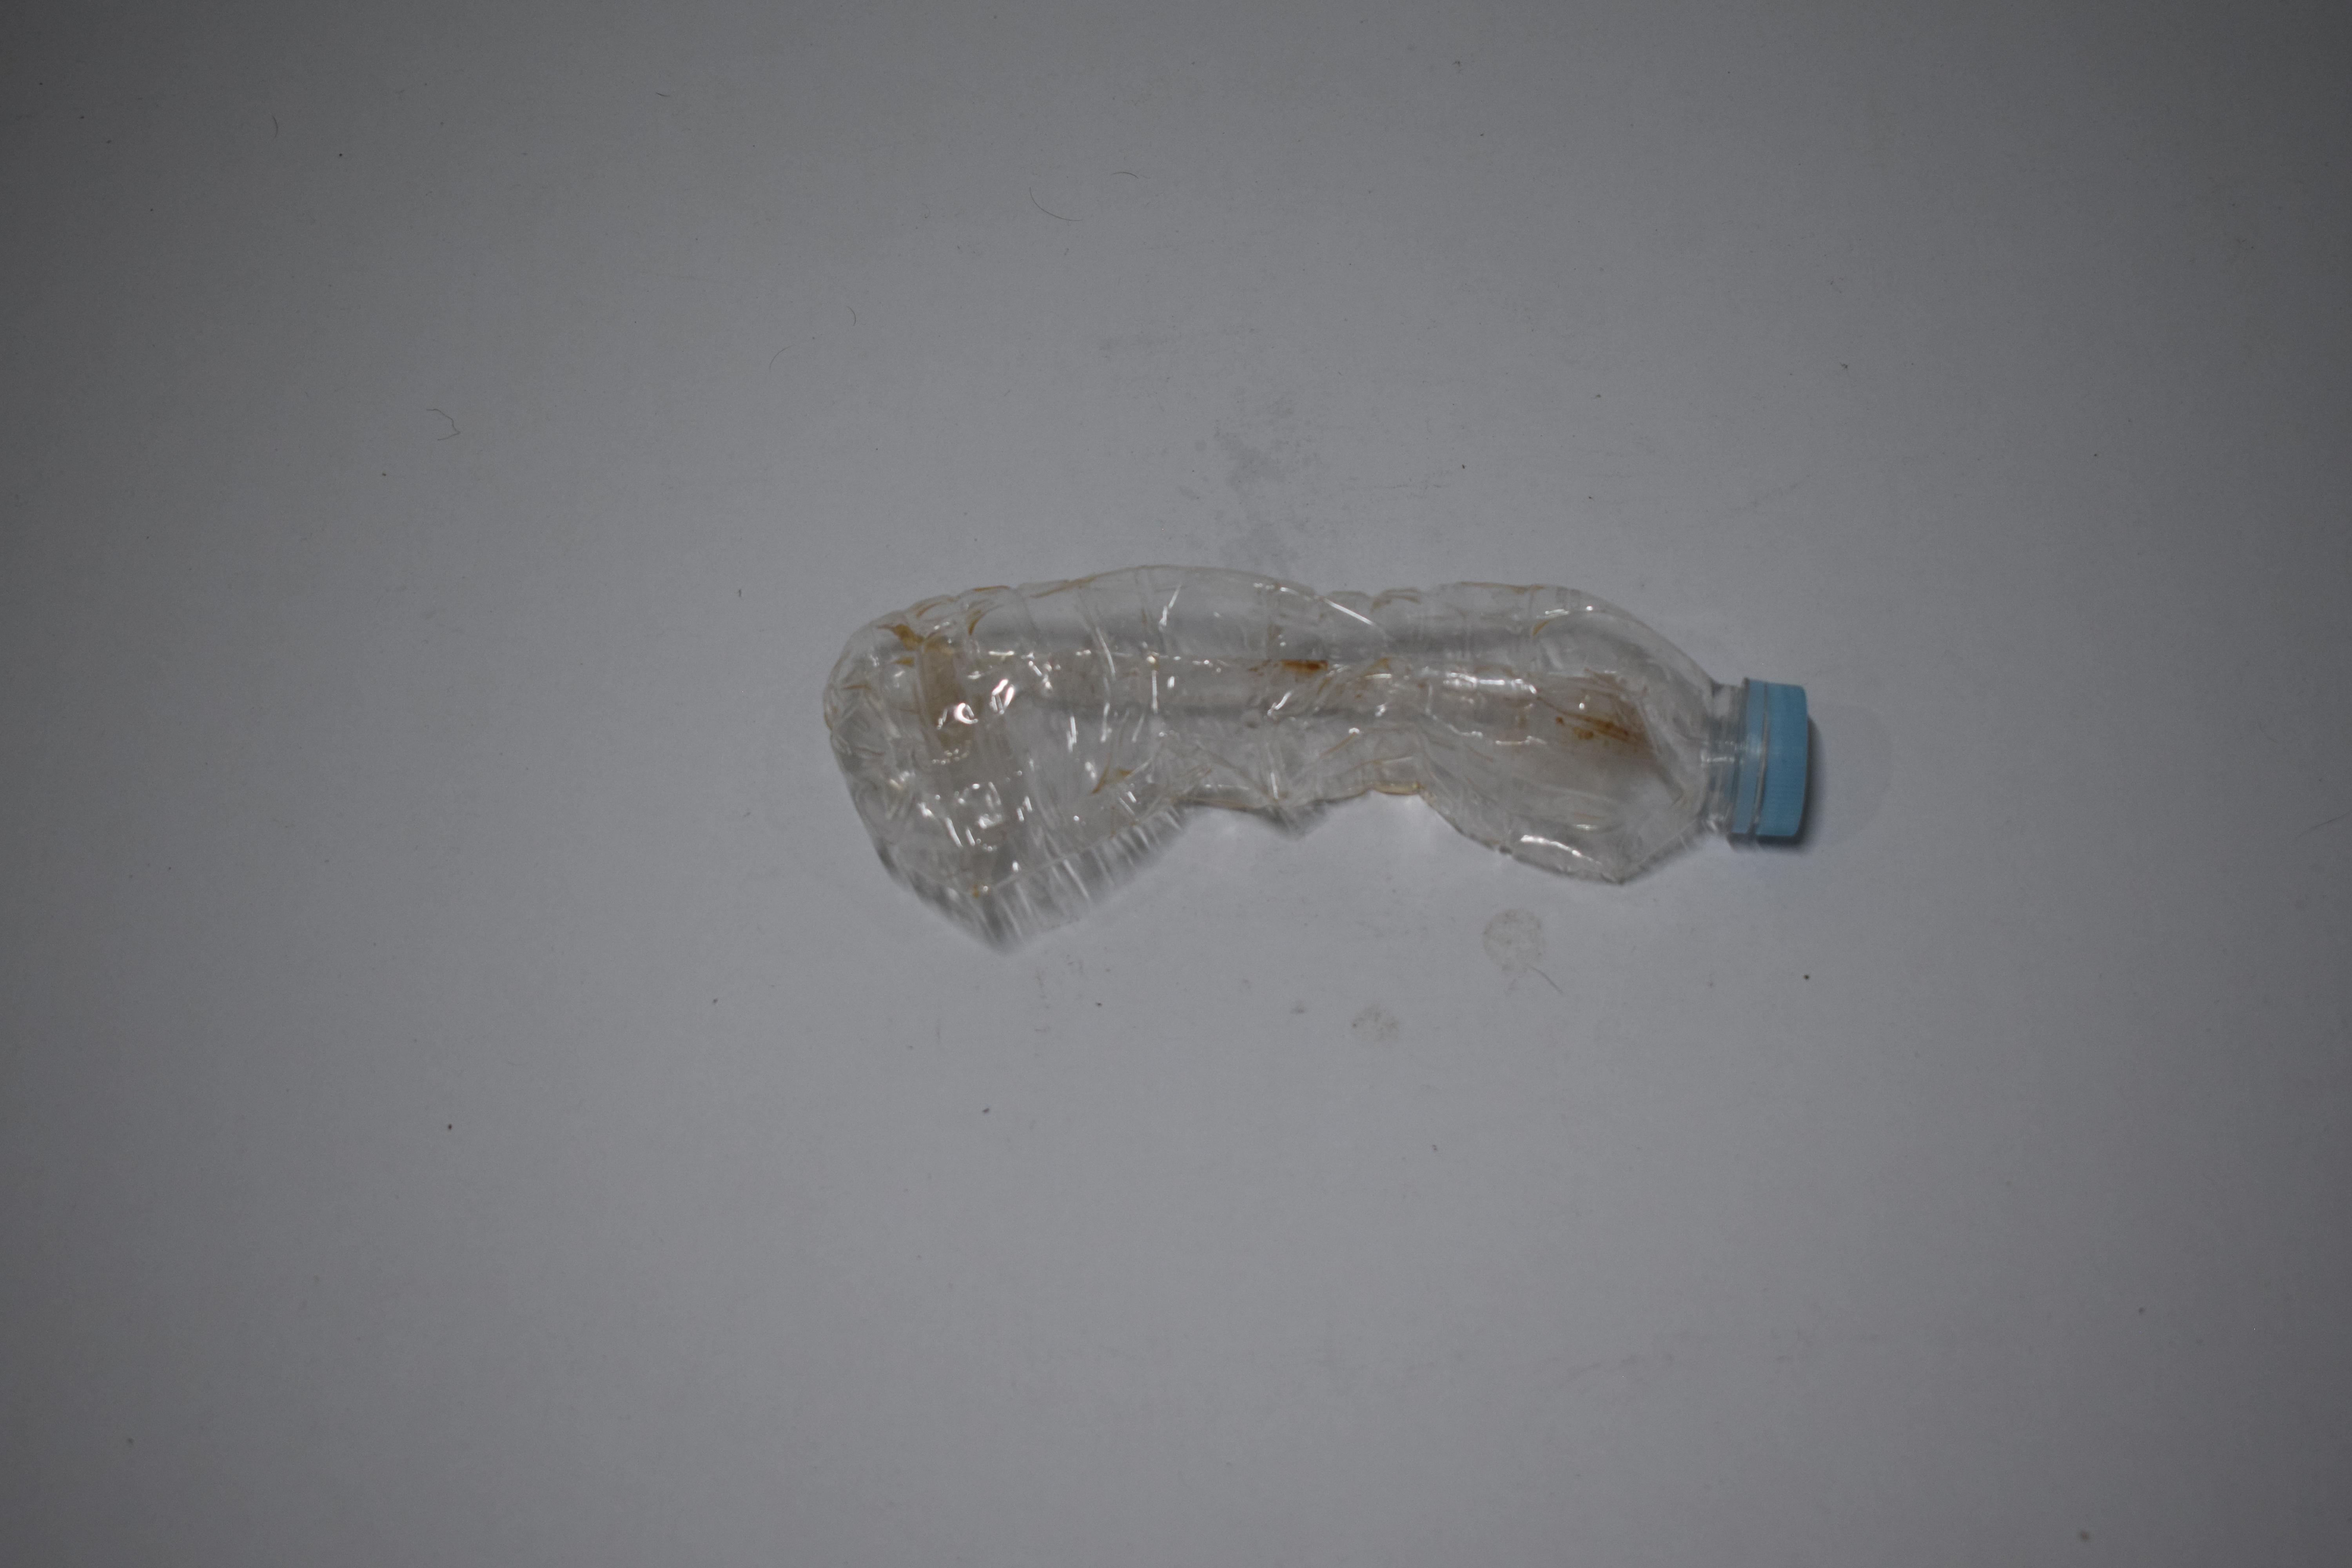bottle: (0, 549, 647, 957)
